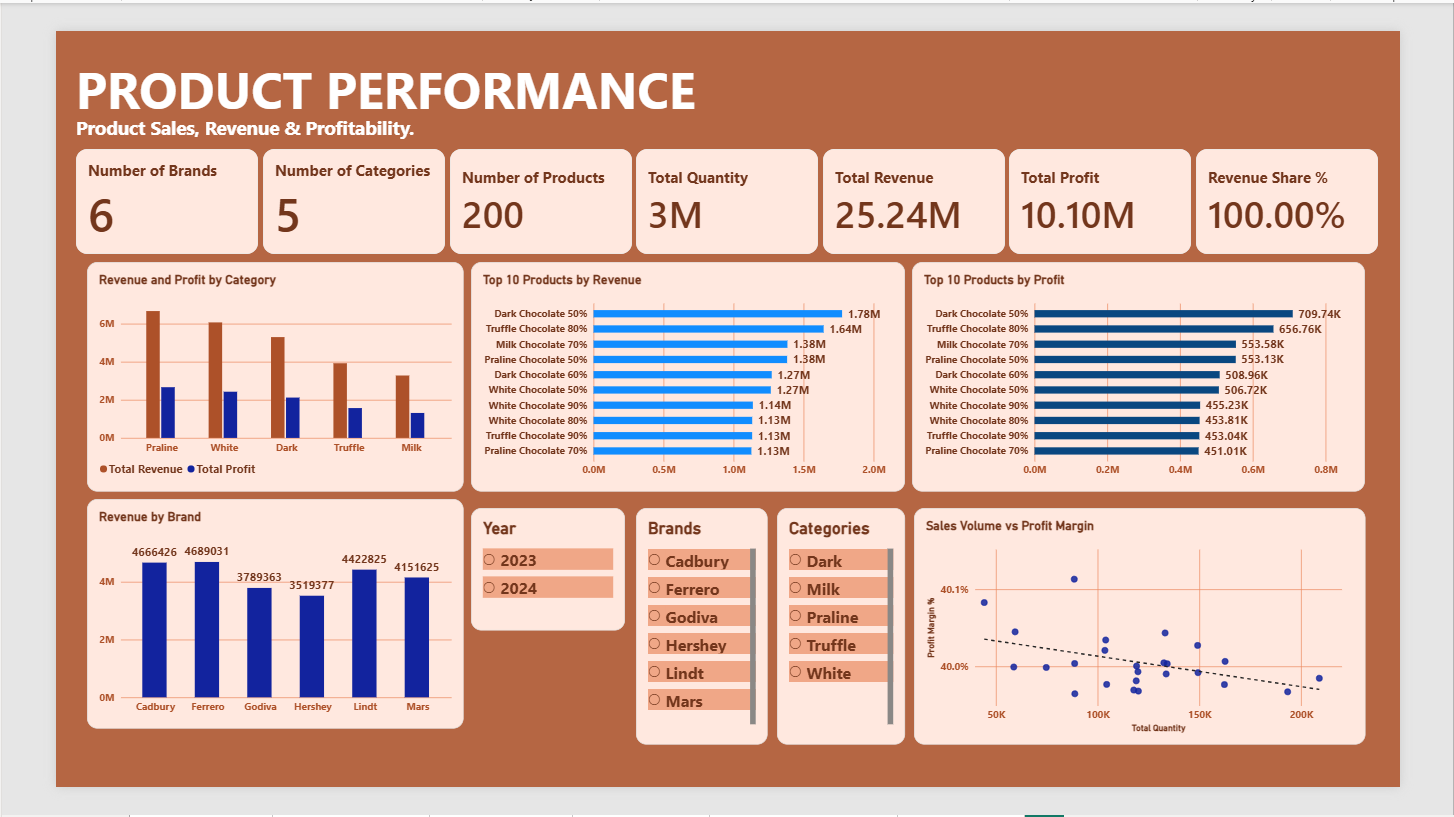

Layout of this report page (visuals, bound fields, positions):
{"tool":"powerbi","page":{"name":"Product Performance","canvas":[1920,1080],"ordinal":1},"visuals":[{"type":"cardVisual","fields":{"Data":["products.Number of Products"]},"box":[562.3,168.5,260,150],"z":1000},{"type":"cardVisual","fields":{"Data":["sales.Total Quantity"]},"box":[829.1,168.5,260,150],"z":2000},{"type":"cardVisual","fields":{"Data":["sales.Total Revenue"]},"box":[1095.8,168.5,260,150],"z":3000},{"type":"cardVisual","fields":{"Data":["sales.Total Profit"]},"box":[1361.1,168.5,260,150],"z":4000},{"type":"clusteredColumnChart","title":"Revenue and Profit by Category","fields":{"Category":["products.category"],"Y":["sales.Total Revenue","sales.Total Profit"]},"box":[45,330,538.3,328.3],"z":5000},{"type":"clusteredBarChart","title":"Top 10 Products by Revenue","fields":{"Category":["products.product_name"],"Y":["sales.Total Revenue"]},"box":[593.3,330,620,328.3],"z":6000},{"type":"clusteredBarChart","title":"Top 10 Products by Profit","fields":{"Category":["products.product_name"],"Y":["sales.Total Profit"]},"box":[1223.3,330,646.7,328.3],"z":7000},{"type":"clusteredColumnChart","title":"Revenue by Brand","fields":{"Category":["products.brand","products.category","products.product_id"],"Y":["sales.Total Revenue"]},"box":[45,668.3,538.3,328.3],"z":8000},{"type":"cardVisual","fields":{"Data":["products.Number of Brands"]},"box":[29.1,168.5,260,150],"z":9000},{"type":"cardVisual","fields":{"Data":["products.Number of Categories"]},"box":[295.5,168.8,260,150],"z":10000},{"type":"listSlicer","title":"Year","fields":{"Values":["calendar.year"]},"box":[593.3,681.7,220,175],"z":11000},{"type":"listSlicer","title":"Brands","fields":{"Values":["products.brand"]},"box":[828.3,681.7,188.3,338.3],"z":12000},{"type":"listSlicer","title":"Categories","fields":{"Values":["products.category"]},"box":[1030,681.7,183.3,338.3],"z":13000},{"type":"textbox","box":[1223,682,647,338],"z":14000},{"type":"cardVisual","fields":{"Data":["sales.Revenue Share %"]},"box":[1628.3,168.5,260,150],"z":15000},{"type":"scatterChart","title":"Sales Volume vs Profit Margin","fields":{"Category":["products.product_name"],"X":["sales.Total Quantity"],"Y":["sales.Profit Margin %"]},"box":[1225,681.7,645,338.3],"z":16000},{"type":"textbox","box":[28.6,62.9,641.7,123.3],"z":17000},{"type":"textbox","box":[28.6,25.7,1248.3,121.7],"z":17001}]}

Visuals, with their boxes in screenshot pixels (x1, y1, x2, y2), scaled from the page's 1920x1080 canvas onto the 1454x817 screenshot:
cardVisual - products.Number of Products: l=426, t=127, r=623, b=241
cardVisual - sales.Total Quantity: l=628, t=127, r=825, b=241
cardVisual - sales.Total Revenue: l=830, t=127, r=1027, b=241
cardVisual - sales.Total Profit: l=1031, t=127, r=1228, b=241
"Revenue and Profit by Category" clusteredColumnChart: l=34, t=250, r=442, b=498
"Top 10 Products by Revenue" clusteredBarChart: l=449, t=250, r=919, b=498
"Top 10 Products by Profit" clusteredBarChart: l=926, t=250, r=1416, b=498
"Revenue by Brand" clusteredColumnChart: l=34, t=506, r=442, b=754
cardVisual - products.Number of Brands: l=22, t=127, r=219, b=241
cardVisual - products.Number of Categories: l=224, t=128, r=421, b=241
"Year" listSlicer: l=449, t=516, r=616, b=648
"Brands" listSlicer: l=627, t=516, r=770, b=772
"Categories" listSlicer: l=780, t=516, r=919, b=772
textbox: l=926, t=516, r=1416, b=772
cardVisual - sales.Revenue Share %: l=1233, t=127, r=1430, b=241
"Sales Volume vs Profit Margin" scatterChart: l=928, t=516, r=1416, b=772
textbox: l=22, t=48, r=508, b=141
textbox: l=22, t=19, r=967, b=112
